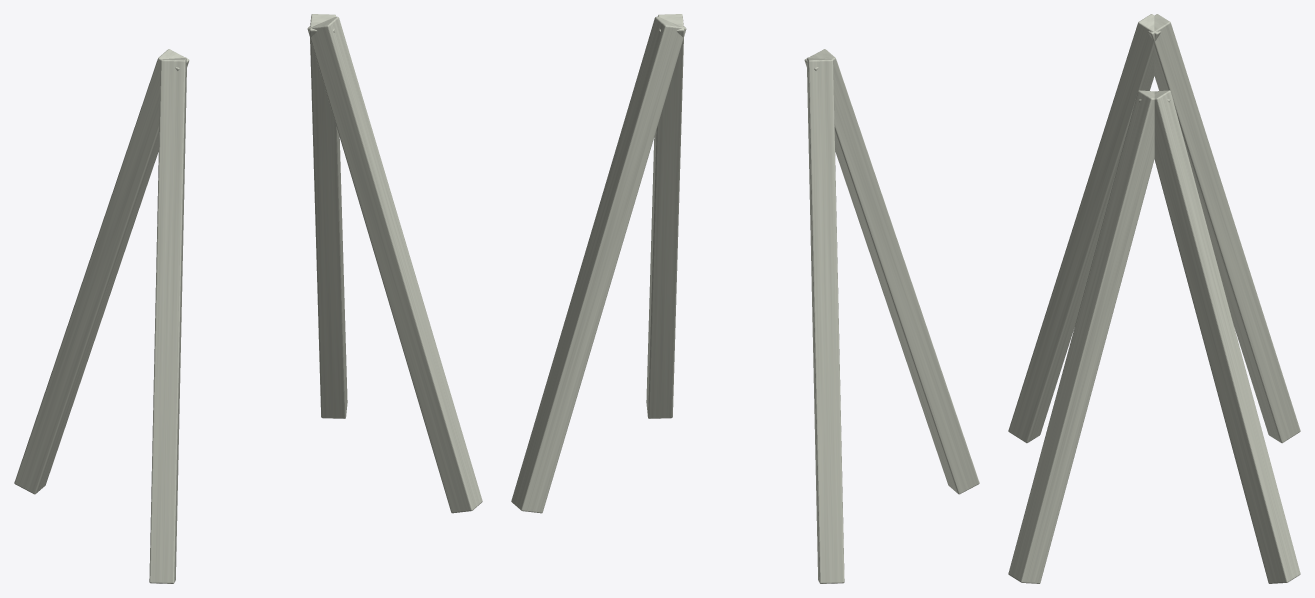
The model's file is Tower_Legs.glb.
3 views of the same model, side by side, from view 1: azimuth 30°, elevation 25°; view 2: azimuth 150°, elevation 25°; view 3: azimuth 270°, elevation 25° (orthographic).
Parts seen in each view (by area): view 1: Tower_Legs; view 2: Tower_Legs; view 3: Tower_Legs.
Boxes of the visible parts, x1=… form: Tower_Legs: x1=14, y1=14, x2=482, y2=583; Tower_Legs: x1=511, y1=14, x2=979, y2=583; Tower_Legs: x1=1008, y1=14, x2=1300, y2=583.
Bounding box in the file's own units: 9.83 × 13.05 × 7.62.
1 material, 1 textured.
